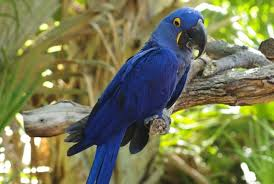guacamaya: (83, 7, 209, 180)
